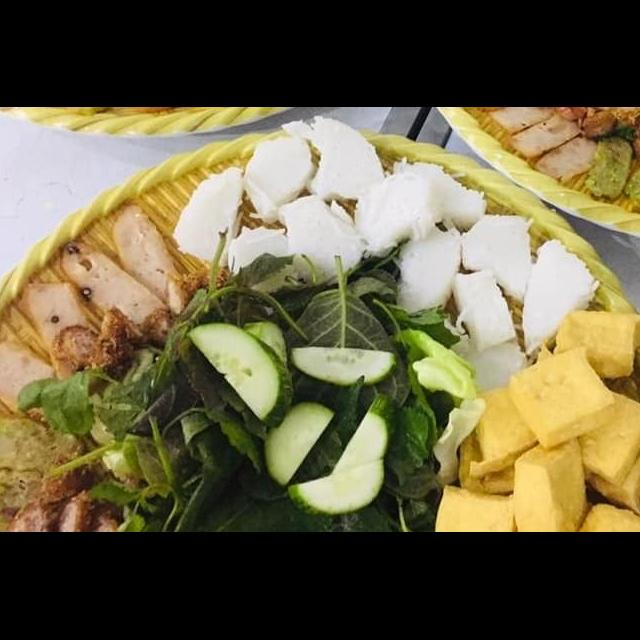bun: (235, 112, 392, 222), (350, 153, 500, 260), (220, 190, 374, 286), (505, 234, 610, 356), (450, 202, 544, 308), (390, 210, 470, 320), (168, 160, 249, 268), (447, 258, 521, 354)
bun dau: (0, 150, 640, 532)
cha com: (0, 403, 104, 532), (586, 124, 640, 220)
dau hu: (418, 302, 640, 532)
